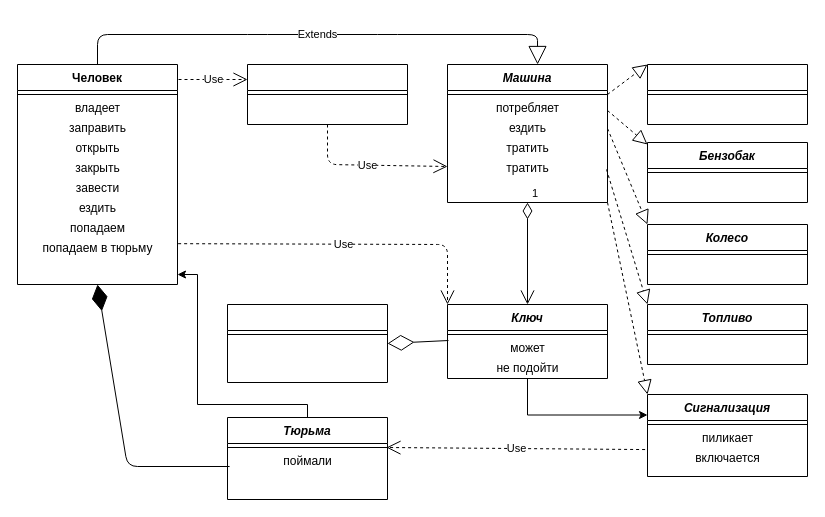
This 825x517 diagram has some shape labels left out. Each missing label, with the centre of its shape:
Замок: (x=307, y=343)
Мотор: (x=727, y=94)
Права: (x=327, y=94)
